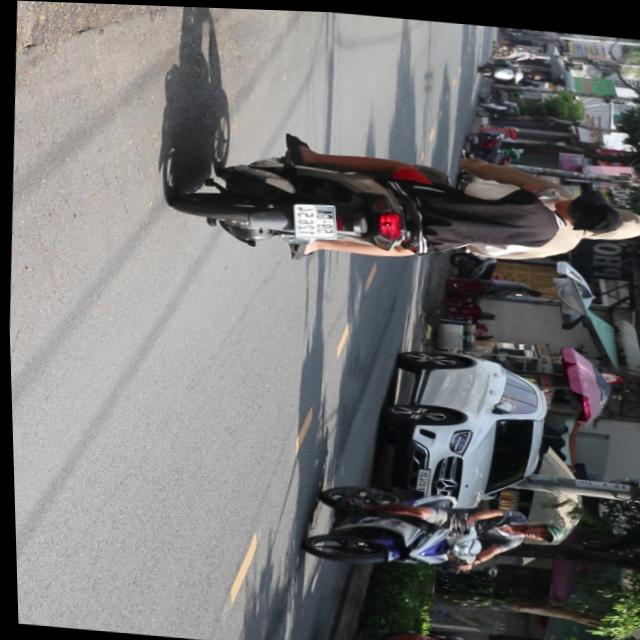helmet: (586, 197, 640, 240), (516, 517, 565, 543)
licenseplate: (161, 122, 640, 289), (297, 474, 569, 583)
motorcyclist: (551, 185, 620, 232)
nohelmet: (291, 201, 336, 239)
